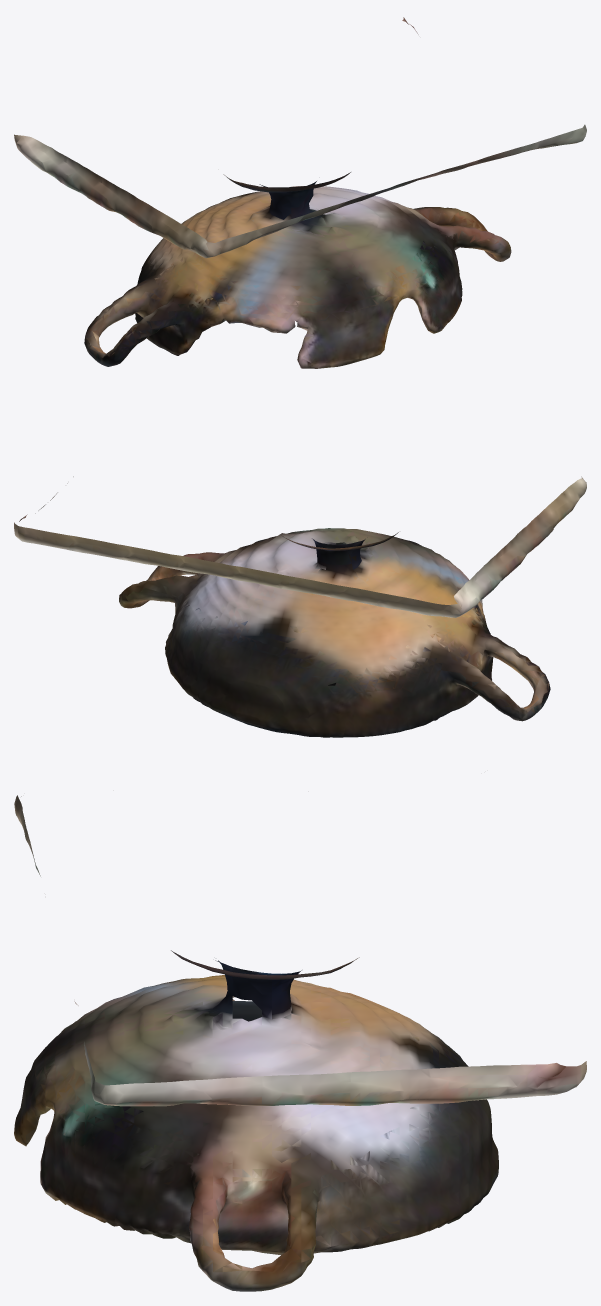
File: kylix6.gltf
The picture shows the model from 3 angles, top to bottom: view 1: azimuth 30°, elevation 25°; view 2: azimuth 150°, elevation 25°; view 3: azimuth 270°, elevation 25°; orthographic projection. The views are drawn at different scales.
Parts seen in each view (by area): view 1: Node; view 2: Node; view 3: Node.
Part boxes in pixels (bbox=[...]): Node: bbox=[14, 17, 586, 368]; Node: bbox=[14, 476, 586, 737]; Node: bbox=[14, 795, 586, 1291].
Size of the model in its own units: 0.2319 by 0.0881 by 0.1749.
1 material, 1 textured.
